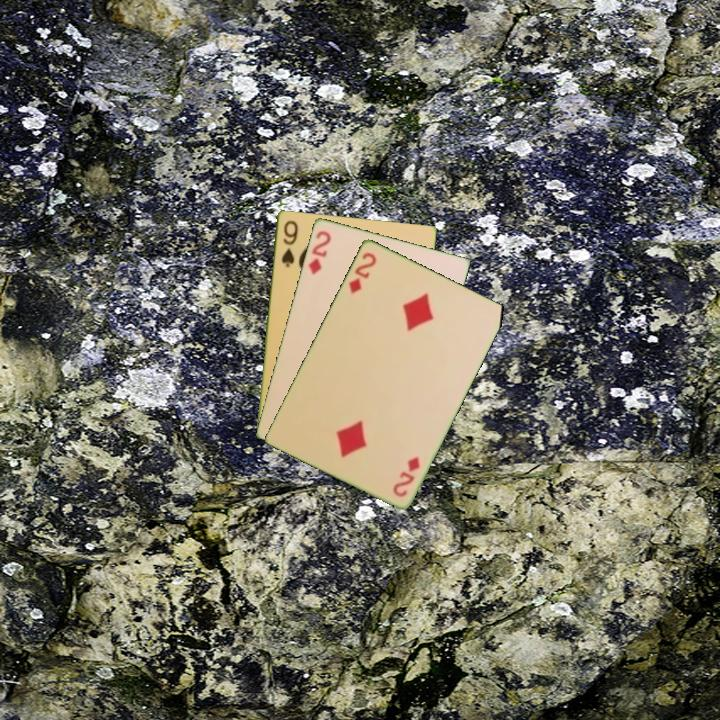2d: (345, 248, 379, 296), (389, 452, 423, 499), (305, 227, 334, 277)
9s: (278, 217, 301, 270)
